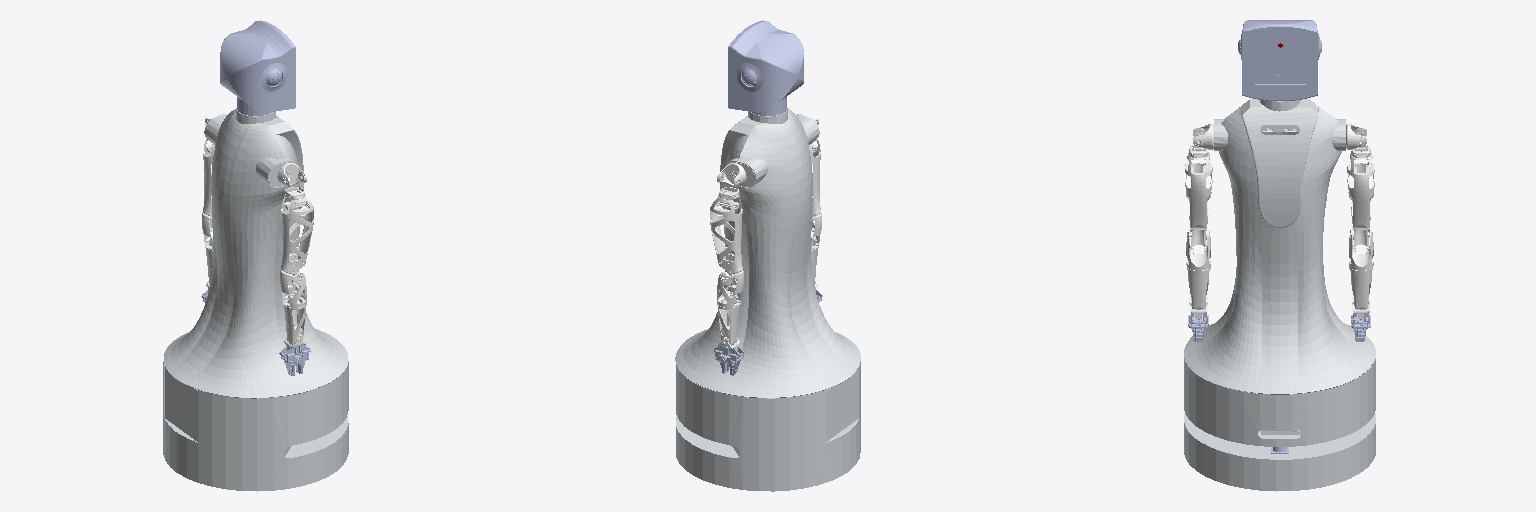
--- Render facts (derived) ---
3 views of the same robot in one strip: view 1: azimuth 30°, elevation 25°; view 2: azimuth 150°, elevation 25°; view 3: azimuth 270°, elevation 25° (orthographic).
Robot: gg_description — 29 links, 28 joints (13 revolute, 2 continuous, 4 prismatic, 9 fixed); root link base_footprint; default pose: every joint at zero.
Visible links, largest first — view 1: base_link, gg_head_Link, gg_rup_Link, gg_rfo_Link, gg_rwr1_Link, gg_lup_Link; view 2: base_link, gg_head_Link, gg_lup_Link, gg_lfo_Link, gg_lwr1_Link, gg_rup_Link; view 3: base_link, gg_head_Link, gg_rup_Link, gg_lup_Link, gg_rfo_Link, gg_lfo_Link, gg_rwr1_Link, gg_lwr1_Link.
Boxes of the visible links, box(x1,y1,x2,y2) form: base_link: box(163, 107, 348, 491); gg_head_Link: box(220, 20, 295, 115); gg_rup_Link: box(281, 195, 313, 277); gg_rfo_Link: box(280, 270, 306, 307); gg_rwr1_Link: box(284, 300, 306, 344); gg_lup_Link: box(203, 139, 214, 216); base_link: box(675, 107, 860, 491); gg_head_Link: box(728, 20, 803, 115); gg_lup_Link: box(710, 195, 742, 277); gg_lfo_Link: box(717, 270, 743, 307); gg_lwr1_Link: box(717, 300, 739, 344); gg_rup_Link: box(809, 139, 820, 216); base_link: box(1184, 98, 1375, 491); gg_head_Link: box(1238, 20, 1321, 100); gg_rup_Link: box(1185, 154, 1212, 239); gg_lup_Link: box(1347, 154, 1374, 239); gg_rfo_Link: box(1186, 228, 1210, 270); gg_lfo_Link: box(1349, 228, 1373, 270); gg_rwr1_Link: box(1187, 267, 1210, 308); gg_lwr1_Link: box(1349, 267, 1372, 308).
Bounding box of the posed robot: 0.5518 × 0.552 × 1.39 m (x, y, z).
Meshes: 28 distinct files referenced, 28 mesh visuals loaded (28 binary STL).

robot.urdf — gg_description:
<?xml version="1.0" encoding="utf-8"?>
<!-- This URDF was automatically created by SolidWorks to URDF Exporter! Originally created by Stephen Brawner ([email redacted]) 
     Commit Version: 1.6.0-4-g7f85cfe  Build Version: 1.6.7995.38578
     For more information, please see http://wiki.ros.org/sw_urdf_exporter -->
<robot
  name="gg_description">
  <!-- base_footprint is a fictitious link(frame) that is on the ground right below base_link origin -->
    
  <link name="base_footprint"/>

  <joint name="base_joint" type="fixed">
    <parent link="base_footprint"/>
    <child link="base_link"/>
    <origin xyz="0.0 0.0 0.010" rpy="0 0 0"/>
  </joint>

  <!-- BASE-LINK -->
  <link
    name="base_link">
    <inertial>
      <origin
        xyz="0.00087670707441645 -0.000134893526176572 0.129521903663046"
        rpy="0 0 0" />
      <mass
        value="12.650328257387" />
      <inertia
        ixx="0.3743375907921"
        ixy="-1.25191226255394E-05"
        ixz="-0.00234555565491785"
        iyy="0.378308274776804"
        iyz="-0.00013948799356669"
        izz="0.443889564061725" />
    </inertial>
    <visual>
      <origin
        xyz="0 0 0"
        rpy="0 0 0" />
      <geometry>
        <mesh
          filename="package://gg_description/meshes/base_link.STL" />
      </geometry>
      <material
        name="">
        <color
          rgba="0.898039215686275 0.917647058823529 0.929411764705882 1" />
      </material>
    </visual>
    <collision>
      <origin
        xyz="0 0 0"
        rpy="0 0 0" />
      <geometry>
        <mesh
          filename="package://gg_description/meshes/base_link.STL" />
      </geometry>
    </collision>
  </link>
  <link
    name="gg_lw_Link">
    <inertial>
      <origin
        xyz="-9.54791801177635E-15 0 0"
        rpy="0 0 0" />
      <mass
        value="0.061890862640772" />
      <inertia
        ixx="8.04435168188267E-05"
        ixy="-7.27153458578974E-36"
        ixz="4.35593139278978E-35"
        iyy="0.000112073295576422"
        iyz="1.00298565734457E-19"
        izz="8.04435168188267E-05" />
    </inertial>
    <visual>
      <origin
        xyz="0 0 0"
        rpy="0 0 0" />
      <geometry>
        <mesh
          filename="package://gg_description/meshes/gg_lw_Link.STL" />
      </geometry>
      <material
        name="">
        <color
          rgba="1 1 1 0.35" />
      </material>
    </visual>
    <collision>
      <origin
        xyz="0 0 0"
        rpy="0 0 0" />
      <geometry>
        <mesh
          filename="package://gg_description/meshes/gg_lw_Link.STL" />
      </geometry>
    </collision>
  </link>
  <joint
    name="gg_lw_joint"
    type="continuous">
    <origin
      xyz="0 0.2225 0.0228"
      rpy="0 0 0" />
    <parent
      link="base_link" />
    <child
      link="gg_lw_Link" />
    <axis
      xyz="0 -1 0" />
  </joint>
  <link
    name="gg_rw_Link">
    <inertial>
      <origin
        xyz="4.21884749357559E-15 2.22044604925031E-16 -5.55111512312578E-17"
        rpy="0 0 0" />
      <mass
        value="0.0618908626407721" />
      <inertia
        ixx="8.04435168188268E-05"
        ixy="-1.62836134705691E-35"
        ixz="2.85140354730484E-35"
        iyy="0.000112073295576423"
        iyz="1.00298565734457E-19"
        izz="8.04435168188268E-05" />
    </inertial>
    <visual>
      <origin
        xyz="0 0 0"
        rpy="0 0 0" />
      <geometry>
        <mesh
          filename="package://gg_description/meshes/gg_rw_Link.STL" />
      </geometry>
      <material
        name="">
        <color
          rgba="1 1 1 0.35" />
      </material>
    </visual>
    <collision>
      <origin
        xyz="0 0 0"
        rpy="0 0 0" />
      <geometry>
        <mesh
          filename="package://gg_description/meshes/gg_rw_Link.STL" />
      </geometry>
    </collision>
  </link>
  <joint
    name="gg_rw_joint"
    type="continuous">
    <origin
      xyz="0 -0.222500000000033 0.0227999999999976"
      rpy="0 0 0" />
    <parent
      link="base_link" />
    <child
      link="gg_rw_Link" />
    <axis
      xyz="0 -1 0" />
  </joint>
  <link
    name="gg_fp_Link">
    <inertial>
      <origin
        xyz="0 0 0"
        rpy="0 0 0" />
      <mass
        value="0.105739306655505" />
      <inertia
        ixx="4.07213383852693E-05"
        ixy="0"
        ixz="0"
        iyy="4.07213383852693E-05"
        iyz="0"
        izz="4.07213383852693E-05" />
    </inertial>
    <visual>
      <origin
        xyz="0 0 0"
        rpy="0 0 0" />
      <geometry>
        <mesh
          filename="package://gg_description/meshes/gg_fp_Link.STL" />
      </geometry>
      <material
        name="">
        <color
          rgba="0.647058823529412 0.619607843137255 0.588235294117647 1" />
      </material>
    </visual>
    <collision>
      <origin
        xyz="0 0 0"
        rpy="0 0 0" />
      <geometry>
        <mesh
          filename="package://gg_description/meshes/gg_fp_Link.STL" />
      </geometry>
    </collision>
  </link>
  <joint
    name="gg_fp_joint"
    type="fixed">
    <origin
      xyz="0.2225 0 -0.00320000000000079"
      rpy="0 0 0" />
    <parent
      link="base_link" />
    <child
      link="gg_fp_Link" />
    <axis
      xyz="0 0 0" />
  </joint>
  <link
    name="gg_rp_Link">
    <inertial>
      <origin
        xyz="7.32747196252603E-15 0 0"
        rpy="0 0 0" />
      <mass
        value="0.105739306655505" />
      <inertia
        ixx="4.07213383852693E-05"
        ixy="0"
        ixz="0"
        iyy="4.07213383852693E-05"
        iyz="0"
        izz="4.07213383852693E-05" />
    </inertial>
    <visual>
      <origin
        xyz="0 0 0"
        rpy="0 0 0" />
      <geometry>
        <mesh
          filename="package://gg_description/meshes/gg_rp_Link.STL" />
      </geometry>
      <material
        name="">
        <color
          rgba="0.647058823529412 0.619607843137255 0.588235294117647 1" />
      </material>
    </visual>
    <collision>
      <origin
        xyz="0 0 0"
        rpy="0 0 0" />
      <geometry>
        <mesh
          filename="package://gg_description/meshes/gg_rp_Link.STL" />
      </geometry>
    </collision>
  </link>
  <joint
    name="gg_rp_joint"
    type="fixed">
    <origin
      xyz="-0.226791899422913 0 -0.00319999999999801"
      rpy="0 0 0" />
    <parent
      link="base_link" />
    <child
      link="gg_rp_Link" />
    <axis
      xyz="0 0 0" />
  </joint>
  <link
    name="gg_laser_Link">
    <inertial>
      <origin
        xyz="-0.000163032244300587 -4.41813252649581E-13 -0.0264786679595439"
        rpy="0 0 0" />
      <mass
        value="0.144890835814023" />
      <inertia
        ixx="7.63975905774395E-05"
        ixy="-3.43064130820371E-16"
        ixz="5.49231602354192E-07"
        iyy="7.69075614466373E-05"
        iyz="2.21414439949515E-14"
        izz="5.05011582230962E-05" />
    </inertial>
    <visual>
      <origin
        xyz="0 0 0"
        rpy="0 0 0" />
      <geometry>
        <mesh
          filename="package://gg_description/meshes/gg_laser_Link.STL" />
      </geometry>
      <material
        name="">
        <color
          rgba="0.792156862745098 0.819607843137255 0.933333333333333 1" />
      </material>
    </visual>
    <collision>
      <origin
        xyz="0 0 0"
        rpy="0 0 0" />
      <geometry>
        <mesh
          filename="package://gg_description/meshes/gg_laser_Link.STL" />
      </geometry>
    </collision>
  </link>
  <joint
    name="gg_laser_joint"
    type="fixed">
    <origin
      xyz="0.209118508553583 0 0.101300000000011"
      rpy="0 0 0" />
    <parent
      link="base_link" />
    <child
      link="gg_laser_Link" />
    <axis
      xyz="0 0 0" />
  </joint>
  <link
    name="gg_cam1_Link">
    <inertial>
      <origin
        xyz="-0.00608566765043428 1.11022302462516E-16 -0.025707145079938"
        rpy="0 0 0" />
      <mass
        value="0.049571006742289" />
      <inertia
        ixx="1.54209195929442E-05"
        ixy="4.26459949268379E-20"
        ixz="5.33148997740382E-06"
        iyy="0.000125140284824981"
        iyz="-3.54577656365757E-22"
        izz="0.00011963652209279" />
    </inertial>
    <visual>
      <origin
        xyz="0 0 0"
        rpy="0 0 0" />
      <geometry>
        <mesh
          filename="package://gg_description/meshes/gg_cam1_Link.STL" />
      </geometry>
      <material
        name="">
        <color
          rgba="1 1 1 0.35" />
      </material>
    </visual>
    <collision>
      <origin
        xyz="0 0 0"
        rpy="0 0 0" />
      <geometry>
        <mesh
          filename="package://gg_description/meshes/gg_cam1_Link.STL" />
      </geometry>
    </collision>
  </link>
  <joint
    name="gg_cam1_joint"
    type="fixed">
    <origin
      xyz="0.259496131718395 0.0361385390106069 0.161999999999998"
      rpy="1.5707963267949 0 1.5707963267949" />
    <parent
      link="base_link" />
    <child
      link="gg_cam1_Link" />
    <axis
      xyz="0 0 0" />
  </joint>
  <link
    name="gg_cam2_Link">
    <inertial>
      <origin
        xyz="0.00108786663322763 -0.000201032384153033 -0.0187798361475048"
        rpy="0 0 0" />
      <mass
        value="0.160828442414892" />
      <inertia
        ixx="2.52714835901354E-05"
        ixy="9.2835171138927E-09"
        ixz="5.72311720896949E-07"
        iyy="0.000434489511612229"
        iyz="1.46849874663095E-08"
        izz="0.000427231940538994" />
    </inertial>
    <visual>
      <origin
        xyz="0 0 0"
        rpy="0 0 0" />
      <geometry>
        <mesh
          filename="package://gg_description/meshes/gg_cam2_Link.STL" />
      </geometry>
      <material
        name="">
        <color
          rgba="1 1 1 0.35" />
      </material>
    </visual>
    <collision>
      <origin
        xyz="0 0 0"
        rpy="0 0 0" />
      <geometry>
        <mesh
          filename="package://gg_description/meshes/gg_cam2_Link.STL" />
      </geometry>
    </collision>
  </link>
  <joint
    name="gg_cam2_joint"
    type="fixed">
    <origin
      xyz="0.0805726042816627 -0.00137926838632108 1.03855512604048"
      rpy="1.5707963267949 0 1.5707963267949" />
    <parent
      link="base_link" />
    <child
      link="gg_cam2_Link" />
    <axis
      xyz="0 0 0" />
  </joint>
  <link
    name="gg_head_Link">
    <inertial>
      <origin
        xyz="0.0157083816590583 0.000196683267197684 0.136187769609681"
        rpy="0 0 0" />
      <mass
        value="0.713863501614828" />
      <inertia
        ixx="0.00475971491279427"
        ixy="2.30763354351006E-06"
        ixz="-0.000111949358608975"
        iyy="0.00323474428634301"
        iyz="-3.52269559546706E-07"
        izz="0.00330513482373154" />
    </inertial>
    <visual>
      <origin
        xyz="0 0 0"
        rpy="0 0 0" />
      <geometry>
        <mesh
          filename="package://gg_description/meshes/gg_head_Link.STL" />
      </geometry>
      <material
        name="">
        <color
          rgba="0.792156862745098 0.819607843137255 0.933333333333333 1" />
      </material>
    </visual>
    <collision>
      <origin
        xyz="0 0 0"
        rpy="0 0 0" />
      <geometry>
        <mesh
          filename="package://gg_description/meshes/gg_head_Link.STL" />
      </geometry>
    </collision>
  </link>
  <joint
    name="gg_head_joint"
    type="revolute">
    <origin
      xyz="0 0 1.106"
      rpy="0 0 0" />
    <parent
      link="base_link" />
    <child
      link="gg_head_Link" />
    <axis
      xyz="0 0 -1" />
    <limit
      lower="0.3925"
      upper="-0.3925"
      effort="0"
      velocity="0" />
  </joint>
  <link
    name="gg_cam3_Link">
    <inertial>
      <origin
        xyz="2.07692891773803E-08 -0.00179304047114992 -0.0086330039275947"
        rpy="0 0 0" />
      <mass
        value="0.00288615905957832" />
      <inertia
        ixx="1.49885370606353E-07"
        ixy="4.61954798781525E-14"
        ixz="-4.12754657281223E-14"
        iyy="1.22145355044454E-07"
        iyz="-1.92017046745121E-08"
        izz="1.6704201249208E-07" />
    </inertial>
    <visual>
      <origin
        xyz="0 0 0"
        rpy="0 0 0" />
      <geometry>
        <mesh
          filename="package://gg_description/meshes/gg_cam3_Link.STL" />
      </geometry>
      <material
        name="">
        <color
          rgba="0.752941176470588 0 0 1" />
      </material>
    </visual>
    <collision>
      <origin
        xyz="0 0 0"
        rpy="0 0 0" />
      <geometry>
        <mesh
          filename="package://gg_description/meshes/gg_cam3_Link.STL" />
      </geometry>
    </collision>
  </link>
  <joint
    name="gg_cam3_joint"
    type="fixed">
    <origin
      xyz="0.0770202621633423 0.00144048739006003 0.192546394658118"
      rpy="1.5707963267949 0 1.5707963267949" />
    <parent
      link="gg_head_Link" />
    <child
      link="gg_cam3_Link" />
    <axis
      xyz="0 0 0.999999999997106" />
  </joint>
  <link
    name="gg_rsh1_Link">
    <inertial>
      <origin
        xyz="8.18131384860976E-09 1.69344732681154E-08 0.0175032164290977"
        rpy="0 0 0" />
      <mass
        value="0.0381303823374811" />
      <inertia
        ixx="3.59625774466967E-05"
        ixy="8.7817335490912E-10"
        ixz="5.16529323543741E-11"
        iyy="2.30670245307998E-05"
        iyz="-1.42460588813036E-11"
        izz="3.63431445156976E-05" />
    </inertial>
    <visual>
      <origin
        xyz="0 0 0"
        rpy="0 0 0" />
      <geometry>
        <mesh
          filename="package://gg_description/meshes/gg_rsh1_Link.STL" />
      </geometry>
      <material
        name="">
        <color
          rgba="1 1 1 0.35" />
      </material>
    </visual>
    <collision>
      <origin
        xyz="0 0 0"
        rpy="0 0 0" />
      <geometry>
        <mesh
          filename="package://gg_description/meshes/gg_rsh1_Link.STL" />
      </geometry>
    </collision>
  </link>
  <joint
    name="gg_rsh1_joint"
    type="revolute">
    <origin
      xyz="0 -0.18984 0.97435"
      rpy="1.5708 1.5708 0" />
    <parent
      link="base_link" />
    <child
      link="gg_rsh1_Link" />
    <axis
      xyz="0 0 -1" />
    <limit
      lower="-1.5708"
      upper="3.1416"
      effort="0"
      velocity="0" />
  </joint>
  <link
    name="gg_rsh2_Link">
    <inertial>
      <origin
        xyz="0.0419429149642356 -2.68905076272752E-06 3.56683808377944E-06"
        rpy="0 0 0" />
      <mass
        value="0.0248848374342612" />
      <inertia
        ixx="1.30396985610604E-05"
        ixy="-1.11524570643438E-10"
        ixz="2.23505469138815E-10"
        iyy="6.79317648943525E-06"
        iyz="-2.71985954880275E-10"
        izz="7.49518502375986E-06" />
    </inertial>
    <visual>
      <origin
        xyz="0 0 0"
        rpy="0 0 0" />
      <geometry>
        <mesh
          filename="package://gg_description/meshes/gg_rsh2_Link.STL" />
      </geometry>
      <material
        name="">
        <color
          rgba="1 1 1 0.35" />
      </material>
    </visual>
    <collision>
      <origin
        xyz="0 0 0"
        rpy="0 0 0" />
      <geometry>
        <mesh
          filename="package://gg_description/meshes/gg_rsh2_Link.STL" />
      </geometry>
    </collision>
  </link>
  <joint
    name="gg_rsh2_joint"
    type="revolute">
    <origin
      xyz="0 0 0.0425000008690849"
      rpy="-1.5707963267949 0 0" />
    <parent
      link="gg_rsh1_Link" />
    <child
      link="gg_rsh2_Link" />
    <axis
      xyz="0 0 -1" />
    <limit
      lower="-3.1416"
      upper="0"
      effort="0"
      velocity="0" />
  </joint>
  <link
    name="gg_rup_Link">
    <inertial>
      <origin
        xyz="-0.0134580824206121 0.00559925490584134 0.115285754057479"
        rpy="0 0 0" />
      <mass
        value="0.186512140859523" />
      <inertia
        ixx="0.0010968548819787"
        ixy="3.66894254551335E-08"
        ixz="-1.63421546598697E-08"
        iyy="0.00101486771744197"
        iyz="7.6010344481468E-05"
        izz="0.000252652799336481" />
    </inertial>
    <visual>
      <origin
        xyz="0 0 0"
        rpy="0 0 0" />
      <geometry>
        <mesh
          filename="package://gg_description/meshes/gg_rup_Link.STL" />
      </geometry>
      <material
        name="">
        <color
          rgba="1 1 1 0.35" />
      </material>
    </visual>
    <collision>
      <origin
        xyz="0 0 0"
        rpy="0 0 0" />
      <geometry>
        <mesh
          filename="package://gg_description/meshes/gg_rup_Link.STL" />
      </geometry>
    </collision>
  </link>
  <joint
    name="gg_rup_joint"
    type="revolute">
    <origin
      xyz="0.0525020799566041 0.0134600008776389 0"
      rpy="1.5707963267949 0 1.57079632889709" />
    <parent
      link="gg_rsh2_Link" />
    <child
      link="gg_rup_Link" />
    <axis
      xyz="0 0 -1" />
    <limit
      lower="-1.5708"
      upper="1.5708"
      effort="0"
      velocity="0" />
  </joint>
  <link
    name="gg_rfo_Link">
    <inertial>
      <origin
        xyz="-0.00636392874628855 0.0443187792850652 -0.0134108846717047"
        rpy="0 0 0" />
      <mass
        value="0.078708037980908" />
      <inertia
        ixx="0.000142501417323633"
        ixy="-2.85076611405841E-05"
        ixz="-3.54279459871569E-09"
        iyy="8.45415887824212E-05"
        iyz="3.29103853992219E-09"
        izz="0.000143444548402331" />
    </inertial>
    <visual>
      <origin
        xyz="0 0 0"
        rpy="0 0 0" />
      <geometry>
        <mesh
          filename="package://gg_description/meshes/gg_rfo_Link.STL" />
      </geometry>
      <material
        name="">
        <color
          rgba="1 1 1 0.35" />
      </material>
    </visual>
    <collision>
      <origin
        xyz="0 0 0"
        rpy="0 0 0" />
      <geometry>
        <mesh
          filename="package://gg_description/meshes/gg_rfo_Link.STL" />
      </geometry>
    </collision>
  </link>
  <joint
    name="gg_rfo_joint"
    type="revolute">
    <origin
      xyz="0 0 0.257097917271541"
      rpy="1.5707963267949 0 1.5707963267949" />
    <parent
      link="gg_rup_Link" />
    <child
      link="gg_rfo_Link" />
    <axis
      xyz="0 0 -1" />
    <limit
      lower="0"
      upper="2.1817"
      effort="0"
      velocity="0" />
  </joint>
  <link
    name="gg_rwr1_Link">
    <inertial>
      <origin
        xyz="0.000960346520169852 -4.09349725652985E-05 -0.0749380923489797"
        rpy="0 0 0" />
      <mass
        value="0.11389315133205" />
      <inertia
        ixx="0.000119267874430709"
        ixy="7.97246981145315E-09"
        ixz="-1.56203889051018E-06"
        iyy="0.000129201425035623"
        iyz="-1.25420855390573E-07"
        izz="5.4605410730218E-05" />
    </inertial>
    <visual>
      <origin
        xyz="0 0 0"
        rpy="0 0 0" />
      <geometry>
        <mesh
          filename="package://gg_description/meshes/gg_rwr1_Link.STL" />
      </geometry>
      <material
        name="">
        <color
          rgba="1 1 1 0.35" />
      </material>
    </visual>
    <collision>
      <origin
        xyz="0 0 0"
        rpy="0 0 0" />
      <geometry>
        <mesh
          filename="package://gg_description/meshes/gg_rwr1_Link.STL" />
      </geometry>
    </collision>
  </link>
  <joint
    name="gg_rwr1_joint"
    type="revolute">
    <origin
      xyz="0 0.0944000009584798 -0.0134600007672695"
      rpy="1.5707963267949 0 0" />
    <parent
      link="gg_rfo_Link" />
    <child
      link="gg_rwr1_Link" />
    <axis
      xyz="0 0 1" />
    <limit
      lower="-2.618"
      upper="2.618"
      effort="0"
      velocity="0" />
  </joint>
  <link
    name="gg_rwr2_Link">
    <inertial>
      <origin
        xyz="5.27035959831945E-05 0.0149429972956123 -0.000477296526397386"
        rpy="0 0 0" />
      <mass
        value="9.51863081125802E-06" />
      <inertia
        ixx="4.4447503945275E-09"
        ixy="5.55003931203248E-12"
        ixz="5.2946687568552E-14"
        iyy="5.82329186061077E-09"
        iyz="3.73101441494862E-12"
        izz="3.84018286041126E-09" />
    </inertial>
    <visual>
      <origin
        xyz="0 0 0"
        rpy="0 0 0" />
      <geometry>
        <mesh
          filename="package://gg_description/meshes/gg_rwr2_Link.STL" />
      </geometry>
      <material
        name="">
        <color
          rgba="1 1 1 1" />
      </material>
    </visual>
    <collision>
      <origin
        xyz="0 0 0"
        rpy="0 0 0" />
      <geometry>
        <mesh
          filename="package://gg_description/meshes/gg_rwr2_Link.STL" />
      </geometry>
    </collision>
  </link>
  <joint
    name="gg_rwr2_joint"
    type="revolute">
    <origin
      xyz="0 0 -0.11755"
      rpy="-1.5708 0 0" />
    <parent
      link="gg_rwr1_Link" />
    <child
      link="gg_rwr2_Link" />
    <axis
      xyz="0 0 1" />
    <limit
      lower="-1.2217"
      upper="1.2217"
      effort="0"
      velocity="0" />
  </joint>
  <link
    name="gg_rbaseha_Link">
    <inertial>
      <origin
        xyz="-3.46662190466862E-05 -0.00143531076907066 0.00106282905844968"
        rpy="0 0 0" />
      <mass
        value="0.0288403504387064" />
      <inertia
        ixx="4.83725908281321E-06"
        ixy="4.14903498339935E-09"
        ixz="1.68331968166638E-09"
        iyy="6.93893759256986E-06"
        iyz="1.15975580281495E-07"
        izz="5.07061471926491E-06" />
    </inertial>
    <visual>
      <origin
        xyz="0 0 0"
        rpy="0 0 0" />
      <geometry>
        <mesh
          filename="package://gg_description/meshes/gg_rbaseha_Link.STL" />
      </geometry>
      <material
        name="">
        <color
          rgba="0.792156862745098 0.819607843137255 0.933333333333333 1" />
      </material>
    </visual>
    <collision>
      <origin
        xyz="0 0 0"
        rpy="0 0 0" />
      <geometry>
        <mesh
          filename="package://gg_description/meshes/gg_rbaseha_Link.STL" />
      </geometry>
    </collision>
  </link>
  <joint
    name="gg_rbaseha_joint"
    type="fixed">
    <origin
      xyz="0 0.0386368164576881 0"
      rpy="0 0 0" />
    <parent
      link="gg_rwr2_Link" />
    <child
      link="gg_rbaseha_Link" />
    <axis
      xyz="0 0 0" />
  </joint>
  <link
    name="gg_rff_Link">
    <inertial>
      <origin
        xyz="0.00939550629777475 -2.83237858456076E-06 0.0340069487151574"
        rpy="0 0 0" />
      <mass
        value="0.024481616476187" />
      <inertia
        ixx="1.04726803527831E-05"
        ixy="2.82637263258838E-10"
        ixz="-9.62509894843006E-08"
        iyy="5.79799511163099E-06"
        iyz="-6.73202258873545E-11"
        izz="7.03589541366527E-06" />
    </inertial>
    <visual>
      <origin
        xyz="0 0 0"
        rpy="0 0 0" />
      <geometry>
        <mesh
          filename="package://gg_description/meshes/gg_rff_Link.STL" />
      </geometry>
      <material
        name="">
        <color
          rgba="0.792156862745098 0.819607843137255 0.933333333333333 1" />
      </material>
    </visual>
    <collision>
      <origin
        xyz="0 0 0"
        rpy="0 0 0" />
      <geometry>
        <mesh
          filename="package://gg_description/meshes/gg_rff_Link.STL" />
      </geometry>
    </collision>
  </link>
  <joint
    name="gg_rff_joint"
    type="prismatic">
    <origin
      xyz="0.0100020709762965 0.063891720357569 -0.00136312082810863"
      rpy="1.55644753044553 0 0" />
    <parent
      link="gg_rbaseha_Link" />
    <child
      link="gg_rff_Link" />
    <axis
      xyz="1 0 0" />
    <limit
      lower="0"
      upper="0.02"
      effort="0"
      velocity="0" />
  </joint>
  <link
    name="gg_rfr_Link">
    <inertial>
      <origin
        xyz="0.00939553269660132 -0.000563990601135433 0.0340025958410232"
        rpy="0 0 0" />
      <mass
        value="0.0244814918278841" />
      <inertia
        ixx="1.04724702119457E-05"
        ixy="1.66324895414296E-09"
        ixz="-9.62280058819903E-08"
        iyy="5.79805172935487E-06"
        iyz="-1.78314521454913E-08"
        izz="7.03562682326511E-06" />
    </inertial>
    <visual>
      <origin
        xyz="0 0 0"
        rpy="0 0 0" />
      <geometry>
        <mesh
          filename="package://gg_description/meshes/gg_rfr_Link.STL" />
      </geometry>
      <material
        name="">
        <color
          rgba="0.792156862745098 0.819607843137255 0.933333333333333 1" />
      </material>
    </visual>
    <collision>
      <origin
        xyz="0 0 0"
        rpy="0 0 0" />
      <geometry>
        <mesh
          filename="package://gg_description/meshes/gg_rfr_Link.STL" />
      </geometry>
    </collision>
  </link>
  <joint
    name="gg_rfr_joint"
    type="prismatic">
    <origin
      xyz="-0.010005 0.063892 -0.0013631"
      rpy="-1.5708 0 3.1416" />
    <parent
      link="gg_rbaseha_Link" />
    <child
      link="gg_rfr_Link" />
    <axis
      xyz="1 0 0" />
    <limit
      lower="0"
      upper="0.02"
      effort="0"
      velocity="0" />
  </joint>
  <link
    name="gg_lsh1_Link">
    <inertial>
      <origin
        xyz="-8.14446443619943E-09 2.71893079162311E-08 -0.0175032164290977"
        rpy="0 0 0" />
      <mass
        value="0.0381303823374847" />
      <inertia
        ixx="3.59625774466957E-05"
        ixy="-8.782004901661E-10"
        ixz="5.1652066670528E-11"
        iyy="2.30670245308033E-05"
        iyz="1.30351481865151E-11"
        izz="3.63431445157019E-05" />
    </inertial>
    <visual>
      <origin
        xyz="0 0 0"
        rpy="0 0 0" />
      <geometry>
        <mesh
          filename="package://gg_description/meshes/gg_lsh1_Link.STL" />
      </geometry>
      <material
        name="">
        <color
          rgba="1 1 1 0.35" />
      </material>
    </visual>
    <collision>
      <origin
        xyz="0 0 0"
        rpy="0 0 0" />
      <geometry>
        <mesh
          filename="package://gg_description/meshes/gg_lsh1_Link.STL" />
      </geometry>
    </collision>
  </link>
  <joint
    name="gg_lsh1_joint"
    type="revolute">
    <origin
      xyz="0 0.189839999999998 0.974352062277305"
      rpy="1.5707963267949 1.5707963267949 0" />
    <parent
      link="base_link" />
    <child
      link="gg_lsh1_Link" />
    <axis
      xyz="-1.65185565703954E-05 0 -0.999999999863569" />
    <limit
      lower="-1.5708"
      upper="3.1416"
      effort="0"
      velocity="0" />
  </joint>
  <link
    name="gg_lsh2_Link">
    <inertial>
      <origin
        xyz="0.0403929904725797 1.40690178659364E-05 3.54217267184431E-06"
        rpy="0 0 0" />
      <mass
        value="0.0248848009097077" />
      <inertia
        ixx="1.30396546158409E-05"
        ixy="-1.10434393732099E-10"
        ixz="2.23998906533502E-10"
        iyy="6.79313876074864E-06"
        iyz="-2.47303233758556E-10"
        izz="7.49518433835214E-06" />
    </inertial>
    <visual>
      <origin
        xyz="0 0 0"
        rpy="0 0 0" />
      <geometry>
        <mesh
          filename="package://gg_description/meshes/gg_lsh2_Link.STL" />
      </geometry>
      <material
        name="">
        <color
          rgba="1 1 1 0.35" />
      </material>
    </visual>
    <collision>
      <origin
        xyz="0 0 0"
        rpy="0 0 0" />
      <geometry>
        <mesh
          filename="package://gg_description/meshes/gg_lsh2_Link.STL" />
      </geometry>
    </collision>
  </link>
  <joint
    name="gg_lsh2_joint"
    type="revolute">
    <origin
      xyz="0.00154990979692626 0 -0.0424832768576723"
      rpy="-1.5707963267949 0 0" />
    <parent
      link="gg_lsh1_Link" />
    <child
      link="gg_lsh2_Link" />
    <axis
      xyz="0 0 -1" />
    <limit
      lower="-3.1416"
      upper="0"
      effort="0"
      velocity="0" />
  </joint>
  <link
    name="gg_lup_Link">
    <inertial>
      <origin
        xyz="-1.91755366957258E-06 -0.00559925229167701 0.113588534330144"
        rpy="0 0 0" />
      <mass
        value="0.186512208420852" />
      <inertia
        ixx="0.00109685612254701"
        ixy="3.66596457877962E-08"
        ixz="1.64266736344448E-08"
        iyy="0.0010148681282286"
        iyz="-7.60102013124441E-05"
        izz="0.000252653648190317" />
    </inertial>
    <visual>
      <origin
        xyz="0 0 0"
        rpy="0 0 0" />
      <geometry>
        <mesh
          filename="package://gg_description/meshes/gg_lup_Link.STL" />
      </geometry>
      <material
        name="">
        <color
          rgba="1 1 1 0.35" />
      </material>
    </visual>
    <collision>
      <origin
        xyz="0 0 0"
        rpy="0 0 0" />
      <geometry>
        <mesh
          filename="package://gg_description/meshes/gg_lup_Link.STL" />
      </geometry>
    </collision>
  </link>
  <joint
    name="gg_lup_joint"
    type="revolute">
    <origin
      xyz="0.0526493868628737 1.67223669861882E-05 0"
      rpy="-1.5707963267949 0 -1.5707963267949" />
    <parent
      link="gg_lsh2_Link" />
    <child
      link="gg_lup_Link" />
    <axis
      xyz="0 0 1" />
    <limit
      lower="-1.5708"
      upper="1.5708"
      effort="0"
      velocity="0" />
  </joint>
  <link
    name="gg_lfo_Link">
    <inertial>
      <origin
        xyz="-0.00636412444299728 -0.0443193301436605 -4.90513516736291E-05"
        rpy="0 0 0" />
      <mass
        value="0.0787080680556365" />
      <inertia
        ixx="0.000142500626377126"
        ixy="2.85074890657573E-05"
        ixz="3.58942783714796E-09"
        iyy="8.45403839853453E-05"
        iyz="3.31320535737995E-09"
        izz="0.000143443932964028" />
    </inertial>
    <visual>
      <origin
        xyz="0 0 0"
        rpy="0 0 0" />
      <geometry>
        <mesh
          filename="package://gg_description/meshes/gg_lfo_Link.STL" />
      </geometry>
      <material
        name="">
        <color
          rgba="1 1 1 0.35" />
      </material>
    </visual>
    <collision>
      <origin
        xyz="0 0 0"
        rpy="0 0 0" />
      <geometry>
        <mesh
          filename="package://gg_description/meshes/gg_lfo_Link.STL" />
      </geometry>
    </collision>
  </link>
  <joint
    name="gg_lfo_joint"
    type="revolute">
    <origin
      xyz="0 0 0.255399998394072"
      rpy="-1.5707963267949 0 -1.5707963267949" />
    <parent
      link="gg_lup_Link" />
    <child
      link="gg_lfo_Link" />
    <axis
      xyz="0 0 1" />
    <limit
      lower="0"
      upper="2.1817"
      effort="0"
      velocity="0" />
  </joint>
  <link
    name="gg_lwr1_Link">
    <inertial>
      <origin
        xyz="0.000960367443756494 4.09327990248676E-05 0.0749387972708226"
        rpy="0 0 0" />
      <mass
        value="0.113893162625388" />
      <inertia
        ixx="0.000119267877078213"
        ixy="-7.97363485965435E-09"
        ixz="1.56203894566025E-06"
        iyy="0.000129201426467251"
        iyz="-1.25420722931249E-07"
        izz="5.46054135122238E-05" />
    </inertial>
    <visual>
      <origin
        xyz="0 0 0"
        rpy="0 0 0" />
      <geometry>
        <mesh
          filename="package://gg_description/meshes/gg_lwr1_Link.STL" />
      </geometry>
      <material
        name="">
        <color
          rgba="1 1 1 0.35" />
      </material>
    </visual>
    <collision>
      <origin
        xyz="0 0 0"
        rpy="0 0 0" />
      <geometry>
        <mesh
          filename="package://gg_description/meshes/gg_lwr1_Link.STL" />
      </geometry>
    </collision>
  </link>
  <joint
    name="gg_lwr1_joint"
    type="revolute">
    <origin
      xyz="0 -0.0944000013387671 0"
      rpy="1.5707963267949 0 0" />
    <parent
      link="gg_lfo_Link" />
    <child
      link="gg_lwr1_Link" />
    <axis
      xyz="0 0 1" />
    <limit
      lower="-2.618"
      upper="2.618"
      effort="0"
      velocity="0" />
  </joint>
  <link
    name="gg_lwr2_Link">
    <inertial>
      <origin
        xyz="5.25547150048711E-05 -0.0149437167109086 0.000477116749709544"
        rpy="0 0 0" />
      <mass
        value="9.51875564799266E-06" />
      <inertia
        ixx="4.44477237002039E-09"
        ixy="-5.55123140554893E-12"
        ixz="-7.47720553782032E-14"
        iyy="5.82333866745832E-09"
        iyz="3.73108068466697E-12"
        izz="3.84020974400786E-09" />
    </inertial>
    <visual>
      <origin
        xyz="0 0 0"
        rpy="0 0 0" />
      <geometry>
        <mesh
          filename="package://gg_description/meshes/gg_lwr2_Link.STL" />
      </geometry>
      <material
        name="">
        <color
          rgba="1 1 1 1" />
      </material>
    </visual>
    <collision>
      <origin
        xyz="0 0 0"
        rpy="0 0 0" />
      <geometry>
        <mesh
          filename="package://gg_description/meshes/gg_lwr2_Link.STL" />
      </geometry>
    </collision>
  </link>
  <joint
    name="gg_lwr2_joint"
    type="revolute">
    <origin
      xyz="0 0 0.117549998791541"
      rpy="-1.5707963267949 0 0" />
    <parent
      link="gg_lwr1_Link" />
    <child
      link="gg_lwr2_Link" />
    <axis
      xyz="0 0 1" />
    <limit
      lower="-1.2217"
      upper="1.2217"
      effort="0"
      velocity="0" />
  </joint>
  <link
    name="gg_lbaseha_Link">
    <inertial>
      <origin
        xyz="-3.46443770958826E-05 0.00138606765821769 -0.00106936975719524"
        rpy="0 0 0" />
      <mass
        value="0.0288403474642093" />
      <inertia
        ixx="4.83725868223061E-06"
        ixy="-4.20069787582921E-09"
        ixz="-1.54992521668011E-09"
        iyy="6.94443668469871E-06"
        iyz="5.60835825737299E-08"
        izz="5.06511522825688E-06" />
    </inertial>
    <visual>
      <origin
        xyz="0 0 0"
        rpy="0 0 0" />
      <geometry>
        <mesh
          filename="package://gg_description/meshes/gg_lbaseha_Link.STL" />
      </geometry>
      <material
        name="">
        <color
          rgba="0.792156862745098 0.819607843137255 0.933333333333333 1" />
      </material>
    </visual>
    <collision>
      <origin
        xyz="0 0 0"
        rpy="0 0 0" />
      <geometry>
        <mesh
          filename="package://gg_description/meshes/gg_lbaseha_Link.STL" />
      </geometry>
    </collision>
  </link>
  <joint
    name="gg_lbaseha_joint"
    type="fixed">
    <origin
      xyz="0 -0.0386368164576881 0"
      rpy="0 0 0" />
    <parent
      link="gg_lwr2_Link" />
    <child
      link="gg_lbaseha_Link" />
    <axis
      xyz="0 0 0" />
  </joint>
  <link
    name="gg_lff_Link">
    <inertial>
      <origin
        xyz="0.0093955080299607 0.00157113871445155 0.0339706389707615"
        rpy="0 0 0" />
      <mass
        value="0.0244816183889169" />
      <inertia
        ixx="1.04726784863631E-05"
        ixy="-4.17226742466384E-09"
        ixz="-9.61612586827225E-08"
        iyy="5.80064271716413E-06"
        iyz="5.71683263537019E-08"
        izz="7.03324782854151E-06" />
    </inertial>
    <visual>
      <origin
        xyz="0 0 0"
        rpy="0 0 0" />
      <geometry>
        <mesh
          filename="package://gg_description/meshes/gg_lff_Link.STL" />
      </geometry>
      <material
        name="">
        <color
          rgba="0.792156862745098 0.819607843137255 0.933333333333333 1" />
      </material>
    </visual>
    <collision>
      <origin
        xyz="0 0 0"
        rpy="0 0 0" />
      <geometry>
        <mesh
          filename="package://gg_description/meshes/gg_lff_Link.STL" />
      </geometry>
    </collision>
  </link>
  <joint
    name="gg_lff_joint"
    type="prismatic">
    <origin
      xyz="0.0100011053706025 -0.0638301184763955 0.00344229451811068"
      rpy="-1.5707963267949 0 0" />
    <parent
      link="gg_lbaseha_Link" />
    <child
      link="gg_lff_Link" />
    <axis
      xyz="1 0 0" />
    <limit
      lower="0"
      upper="0.02"
      effort="0"
      velocity="0" />
  </joint>
  <link
    name="gg_lfr_Link">
    <inertial>
      <origin
        xyz="0.0093955347572251 -0.00157677606487289 0.0339700251461681"
        rpy="0 0 0" />
      <mass
        value="0.0244814767725134" />
      <inertia
        ixx="1.04724632417437E-05"
        ixy="4.73622835691414E-09"
        ixz="-9.61256707192296E-08"
        iyy="5.80045400567467E-06"
        iyz="-5.73117167567454E-08"
        izz="7.03321890484212E-06" />
    </inertial>
    <visual>
      <origin
        xyz="0 0 0"
        rpy="0 0 0" />
      <geometry>
        <mesh
          filename="package://gg_description/meshes/gg_lfr_Link.STL" />
      </geometry>
      <material
        name="">
        <color
          rgba="0.792156862745098 0.819607843137255 0.933333333333333 1" />
      </material>
    </visual>
    <collision>
      <origin
        xyz="0 0 0"
        rpy="0 0 0" />
      <geometry>
        <mesh
          filename="package://gg_description/meshes/gg_lfr_Link.STL" />
      </geometry>
    </collision>
  </link>
  <joint
    name="gg_lfr_joint"
    type="prismatic">
    <origin
      xyz="-0.00999824554758277 -0.0638329160811288 0.00336911913045193"
      rpy="1.5707963267949 0 3.14159265358979" />
    <parent
      link="gg_lbaseha_Link" />
    <child
      link="gg_lfr_Link" />
    <axis
      xyz="1 0 0" />
    <limit
      lower="0"
      upper="0.02"
      effort="0"
      velocity="0" />
  </joint>
</robot>
